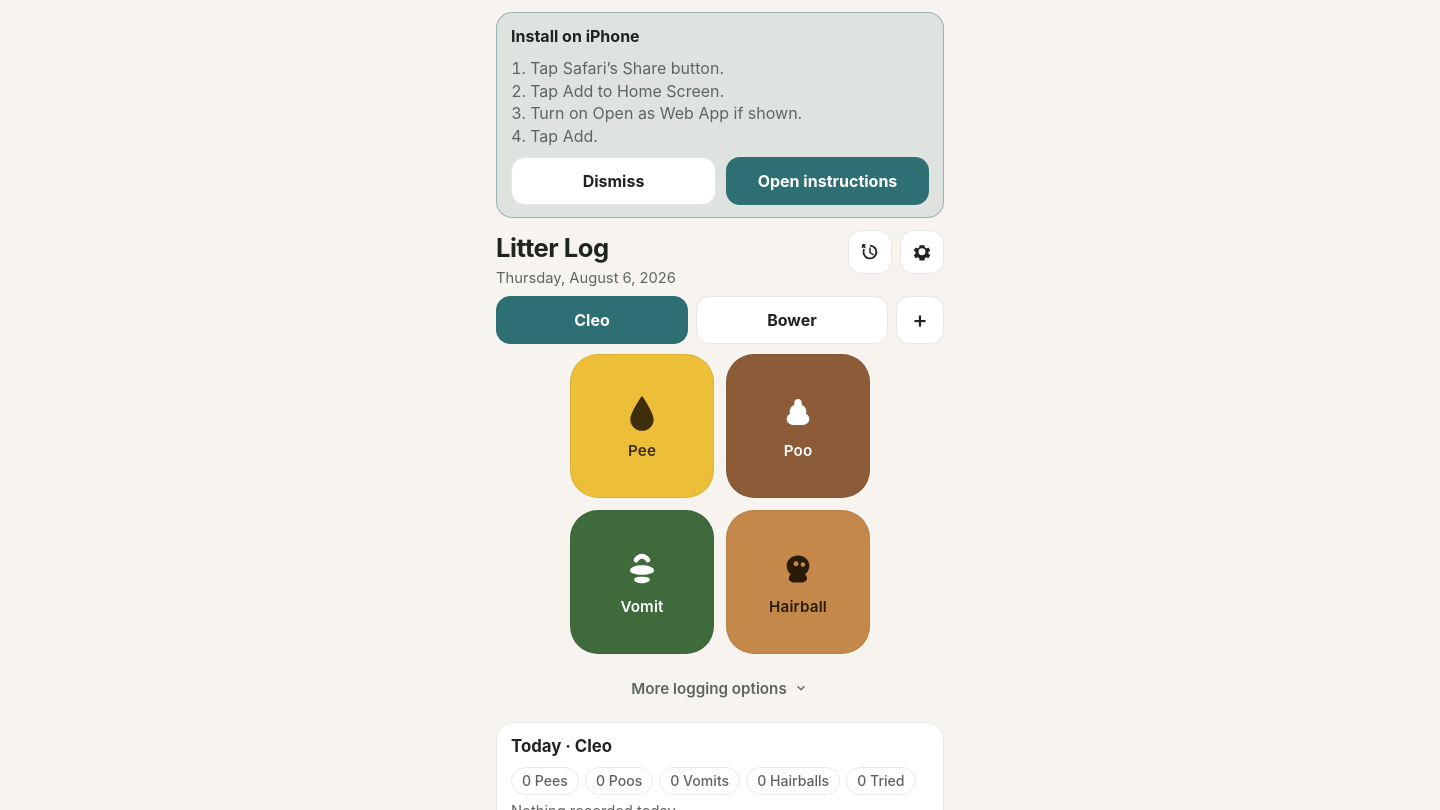
Vomit and Hairball logging › dismisses the vomit popover without creating an event
Expected: the radio button labelled "Cleo" is shown, [496, 296, 688, 344]
Click the button "Vomit" at (642, 582), box [570, 510, 714, 654]
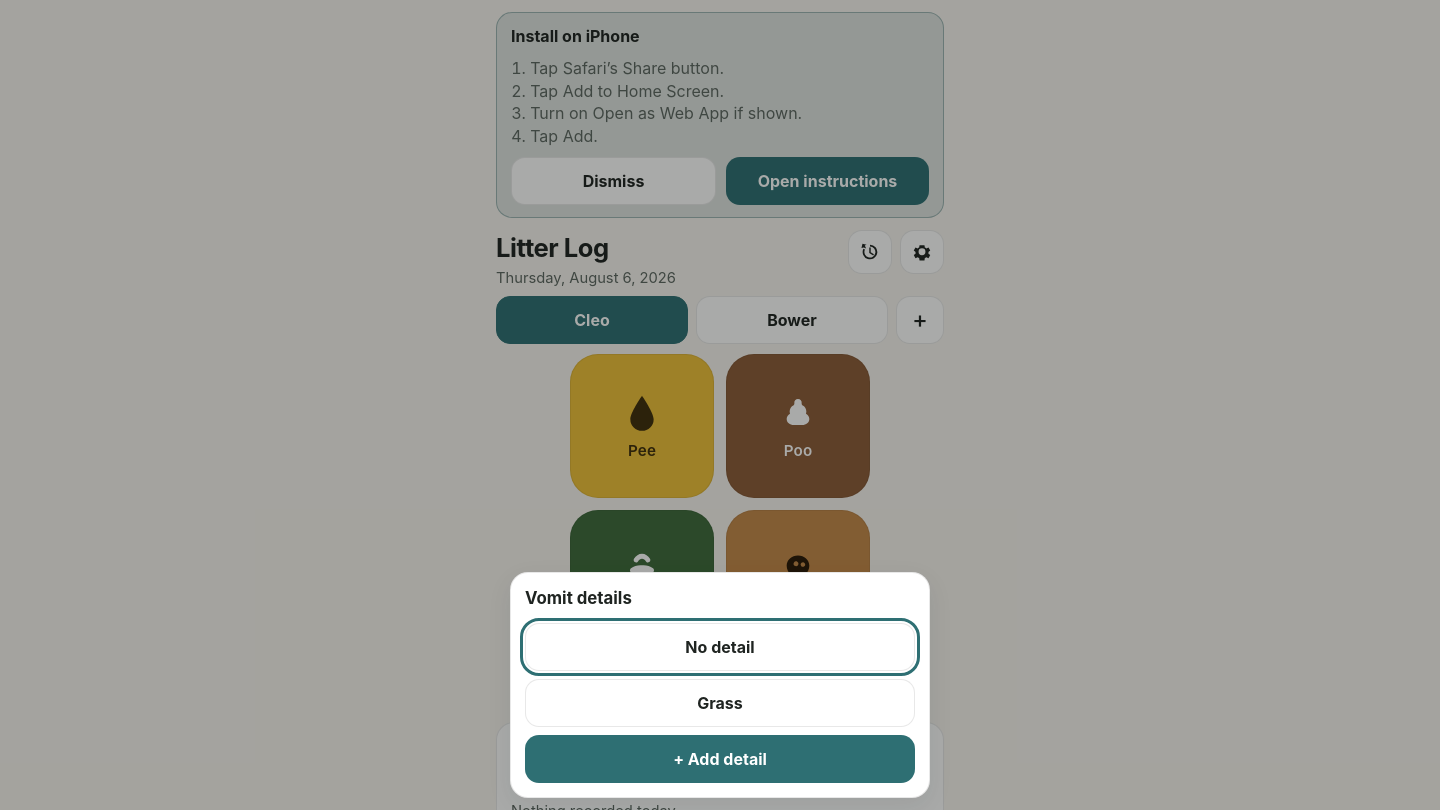
Expected: the element with test id "vomit-detail-popover" is shown
Press Escape
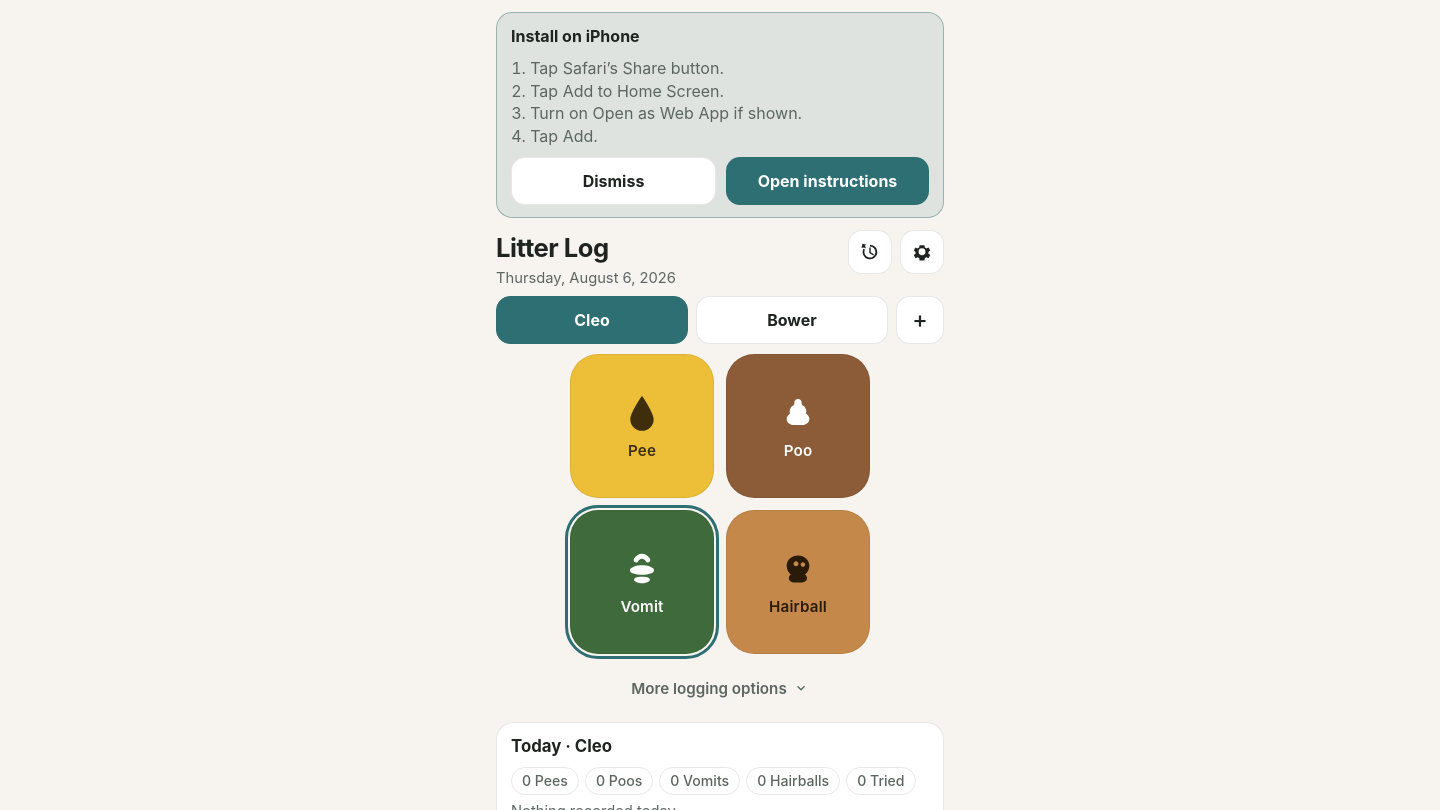
Expected: the element with test id "today-stats" shows "0 Vomits", [670, 772, 729, 789]
Expected: the element with test id "vomit-detail-popover" is gone
